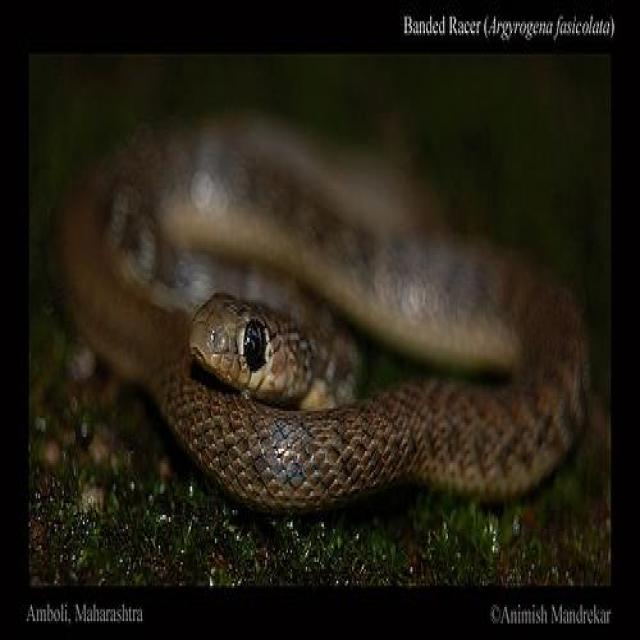Snake: (53, 108, 592, 514)
